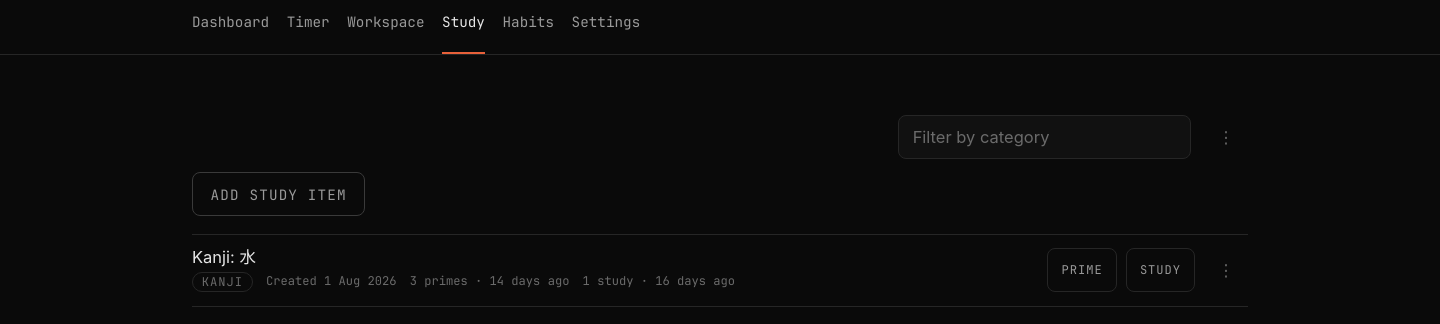
Test: logging interactions › posts an explicit prime interaction and shows the updated count
Click the button with aria-label "log prime for kanji: 水" at (1082, 270), box x1=1047 y1=248 x2=1117 y2=292
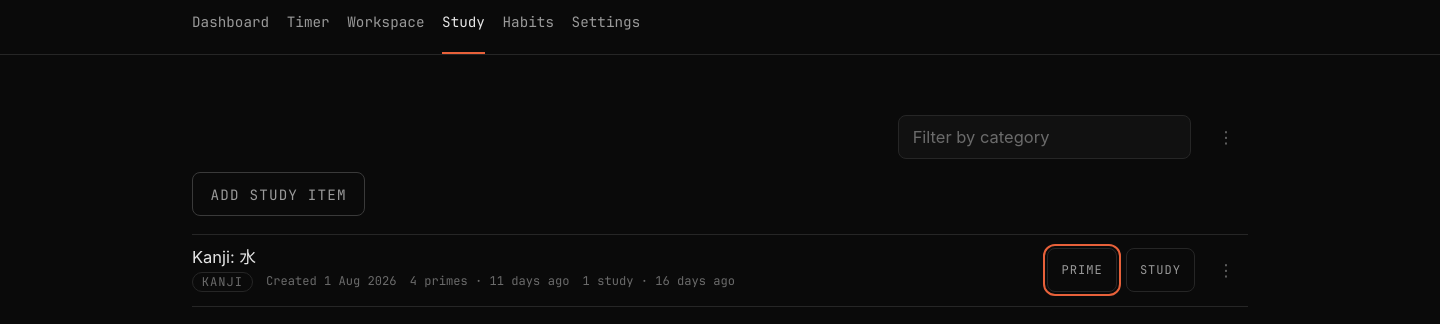
Expected: the text "4 primes · 11 days ago" is shown, x1=410 y1=272 x2=569 y2=292
